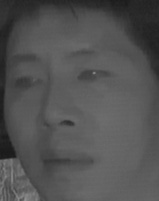eye: (75, 64, 113, 88), (11, 72, 42, 95)
mouth: (38, 144, 94, 179)
